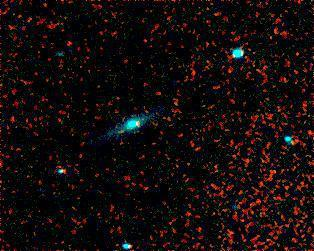star: (158, 90, 188, 120)
